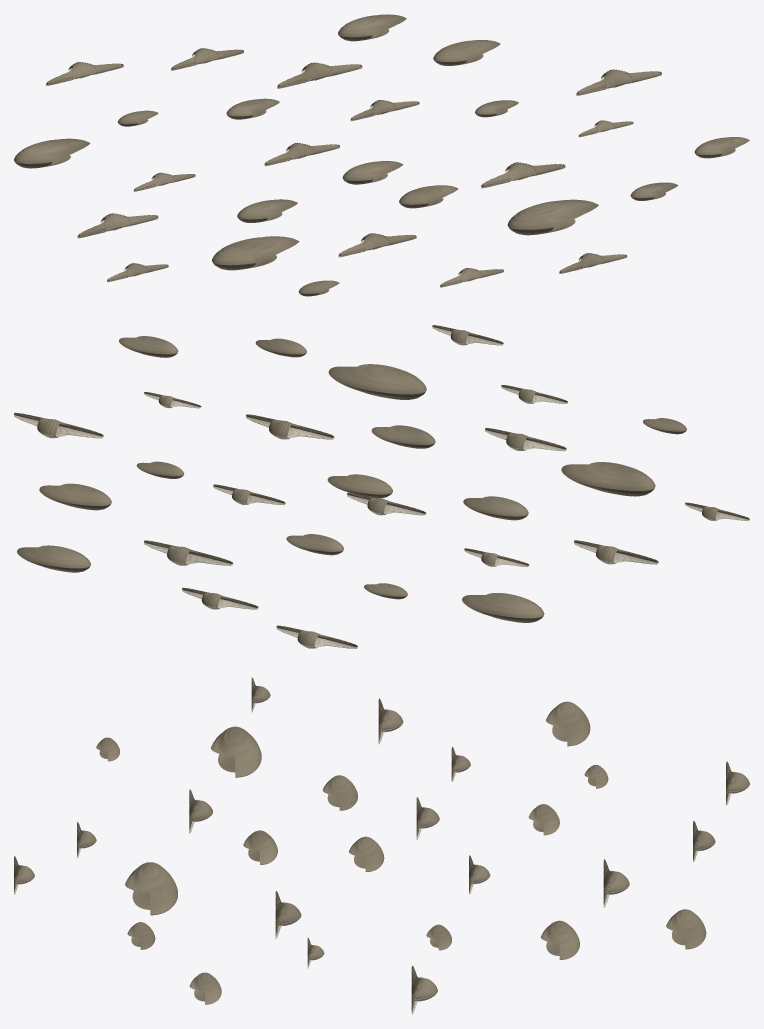
The model's file is shell-hash.glb.
3 renders of one model, top to bottom at view 1: azimuth 30°, elevation 25°; view 2: azimuth 150°, elevation 25°; view 3: azimuth 270°, elevation 25°, orthographic. The views are drawn at different scales.
Parts seen in each view (by area): view 1: shell-hash; view 2: shell-hash; view 3: shell-hash.
Boxes of the visible parts, x1,y1,x2,y2 form: shell-hash: (14,14,749,296); shell-hash: (14,325,749,648); shell-hash: (14,677,749,1014).
Size of the model in its own units: 0.3187 by 0.0136 by 0.296.
